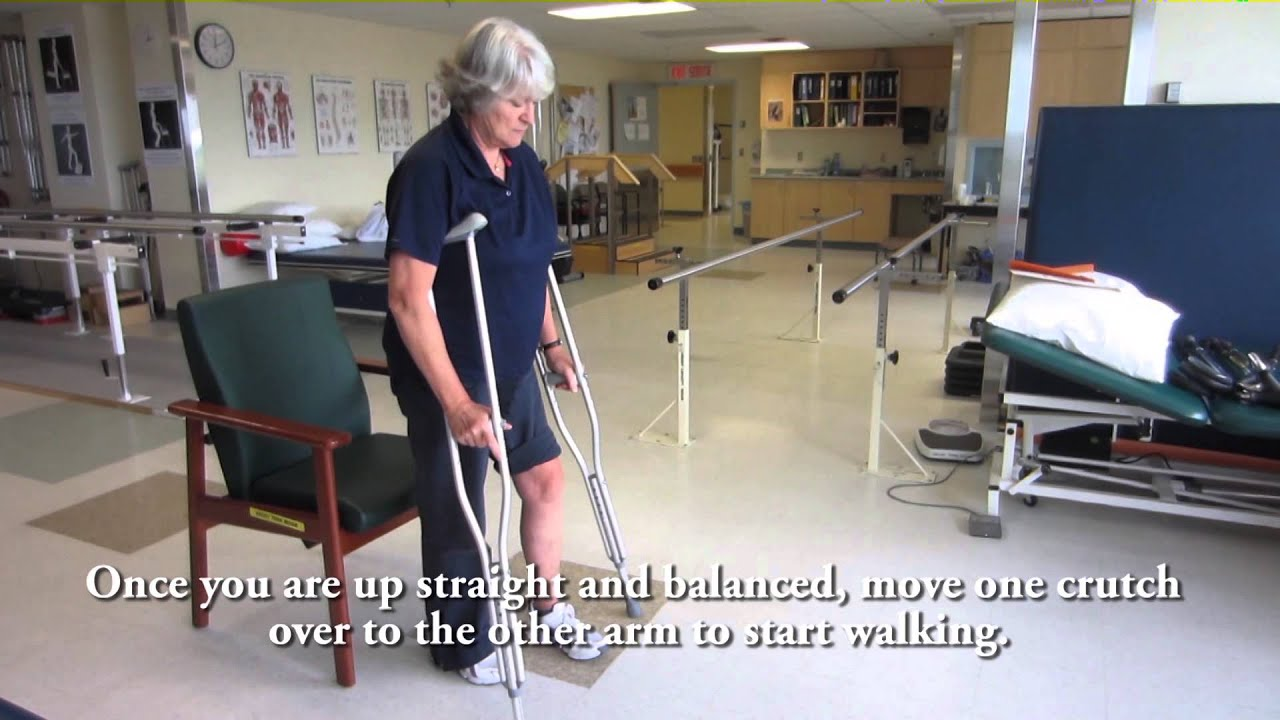crutches: (387, 17, 641, 720)
